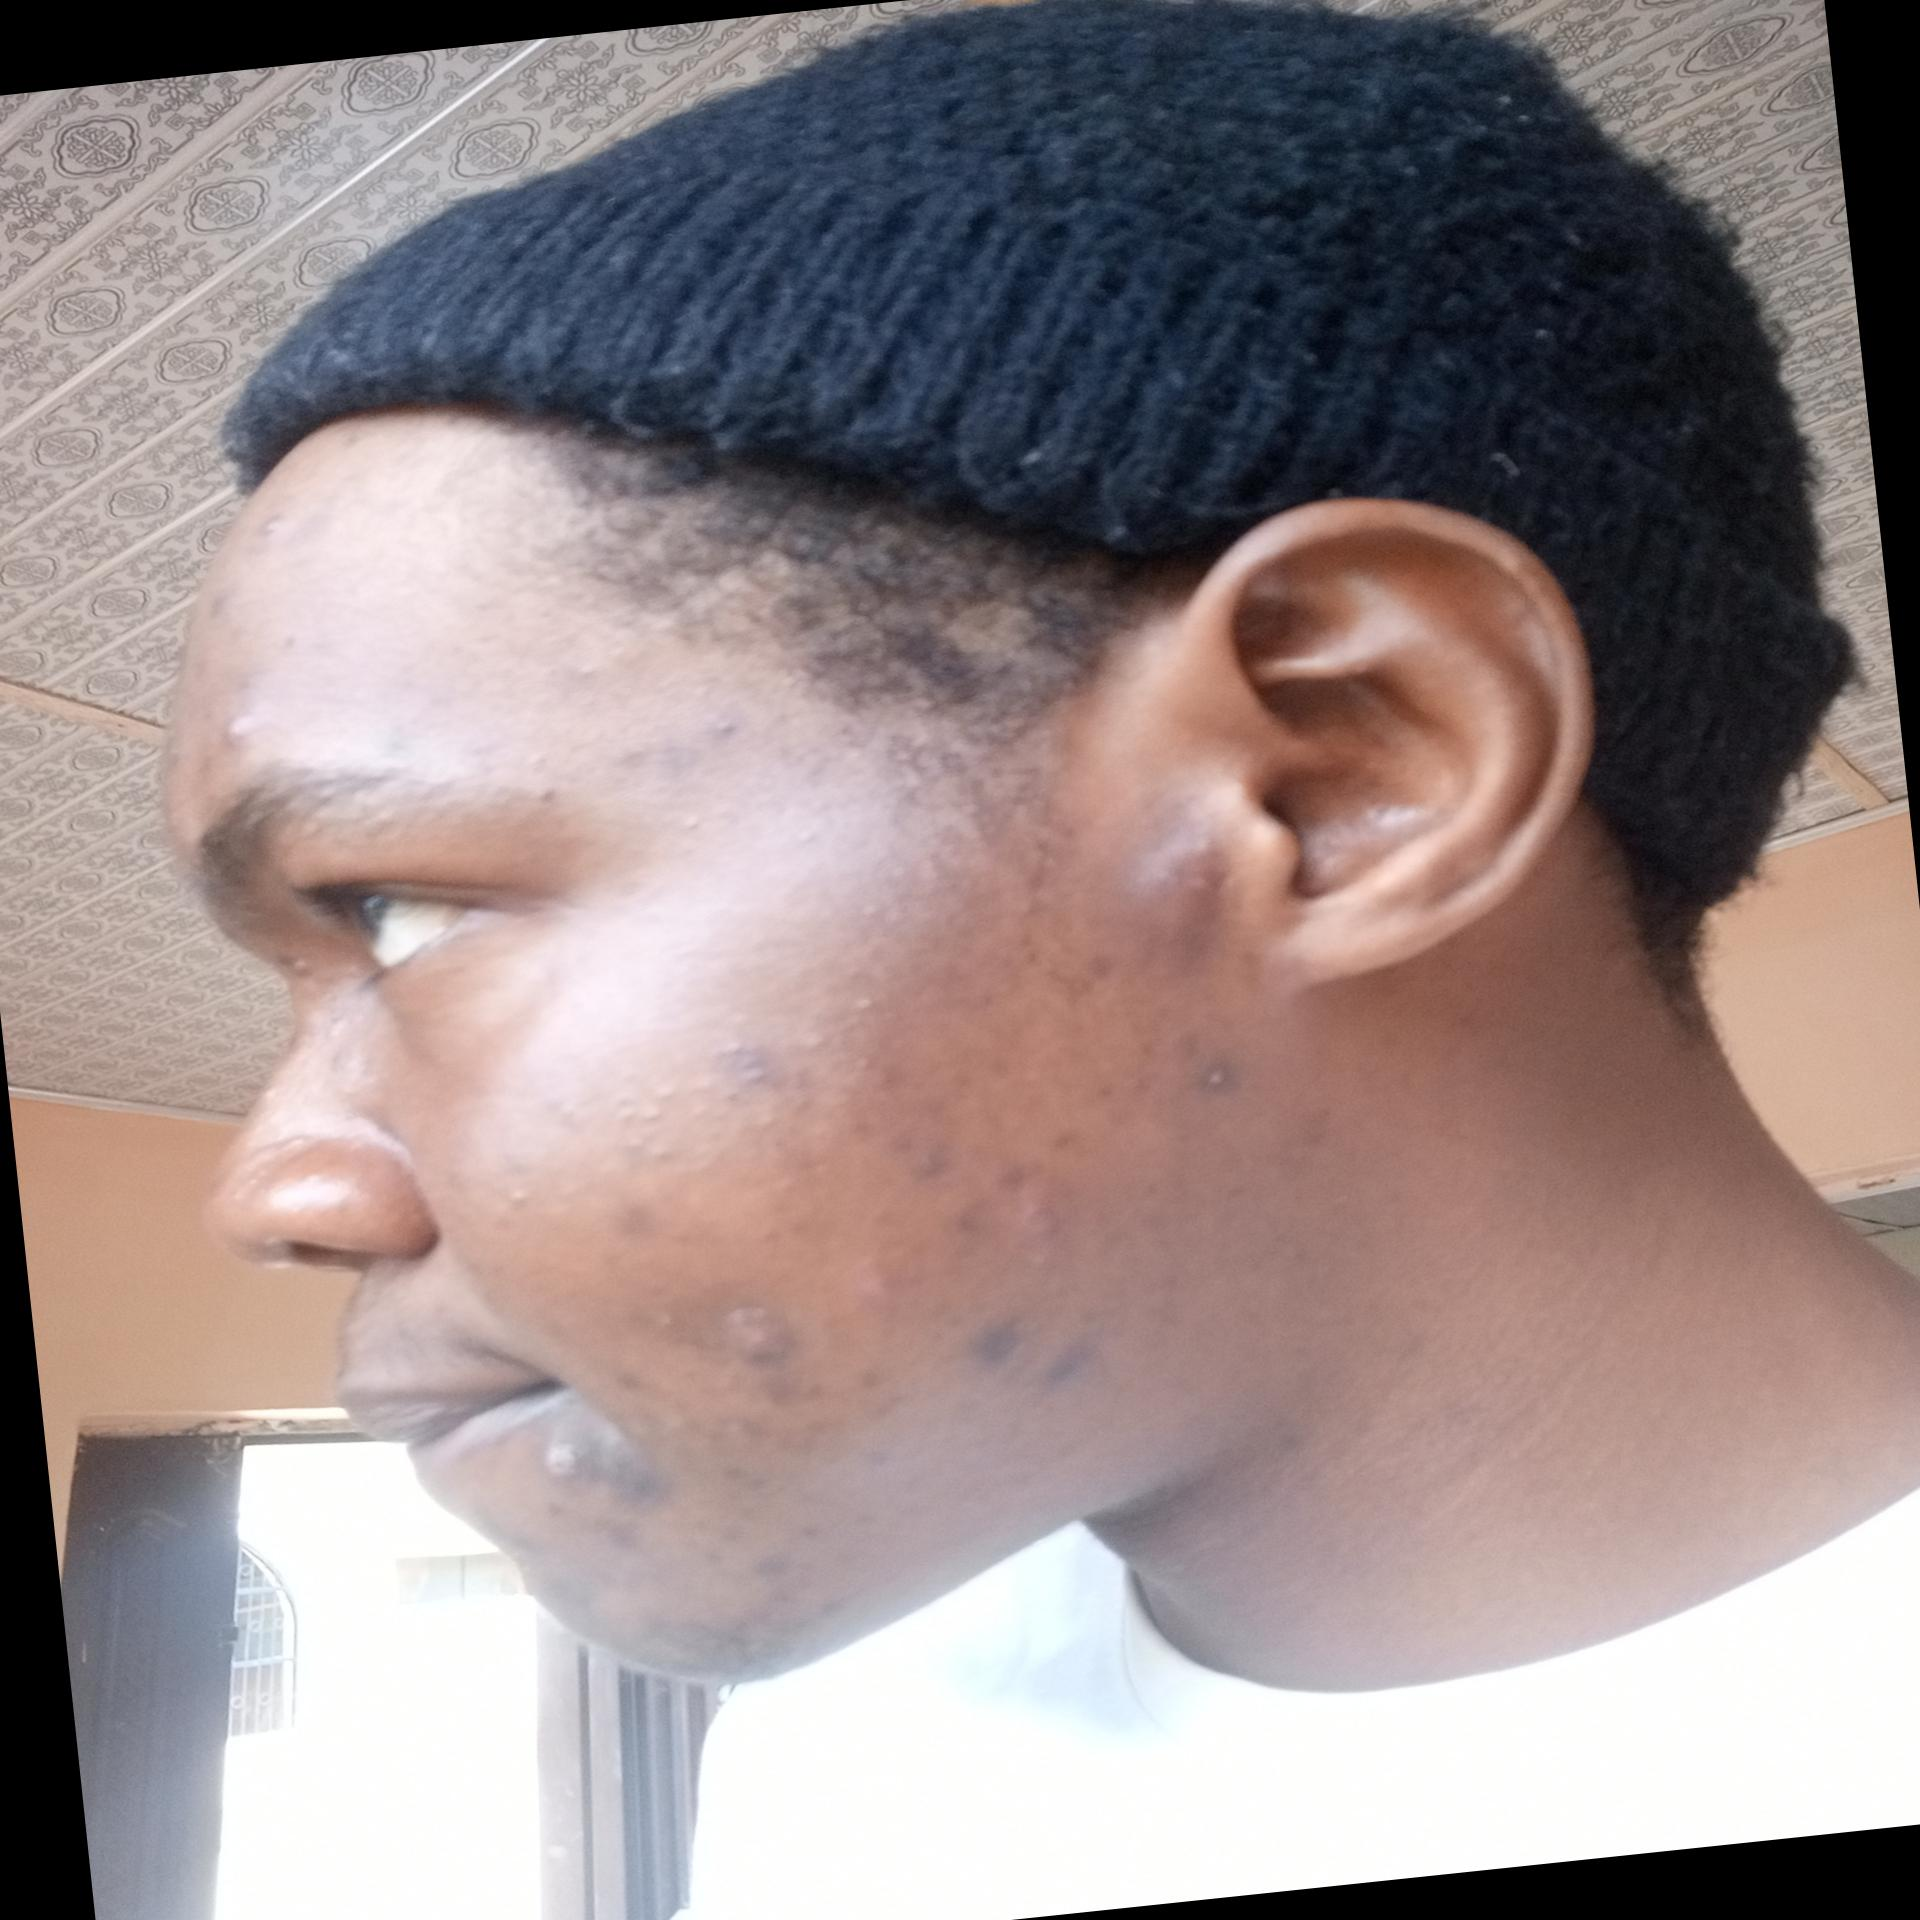Acne: (531, 1408, 689, 1530), (714, 1296, 807, 1403), (608, 1064, 693, 1175), (999, 1145, 1071, 1273), (689, 1023, 796, 1095), (601, 730, 716, 786), (1023, 1333, 1115, 1396), (735, 1405, 828, 1465), (956, 1306, 1036, 1370), (209, 700, 280, 765), (232, 491, 306, 549), (839, 1257, 904, 1322), (928, 1192, 993, 1252), (536, 1560, 601, 1619), (596, 1509, 672, 1556), (709, 1454, 793, 1496), (607, 1190, 670, 1245), (856, 1371, 916, 1428), (1051, 949, 1111, 1000), (629, 1292, 687, 1343), (920, 1131, 972, 1185), (744, 1538, 804, 1582), (837, 1102, 897, 1141), (554, 654, 614, 693), (190, 582, 243, 624), (222, 658, 274, 700), (840, 1440, 893, 1477), (1197, 1051, 1234, 1101), (860, 1048, 909, 1085), (603, 1368, 656, 1401), (700, 705, 747, 742), (851, 1354, 898, 1391), (1176, 863, 1222, 900), (812, 1588, 863, 1619), (798, 1505, 825, 1547)
